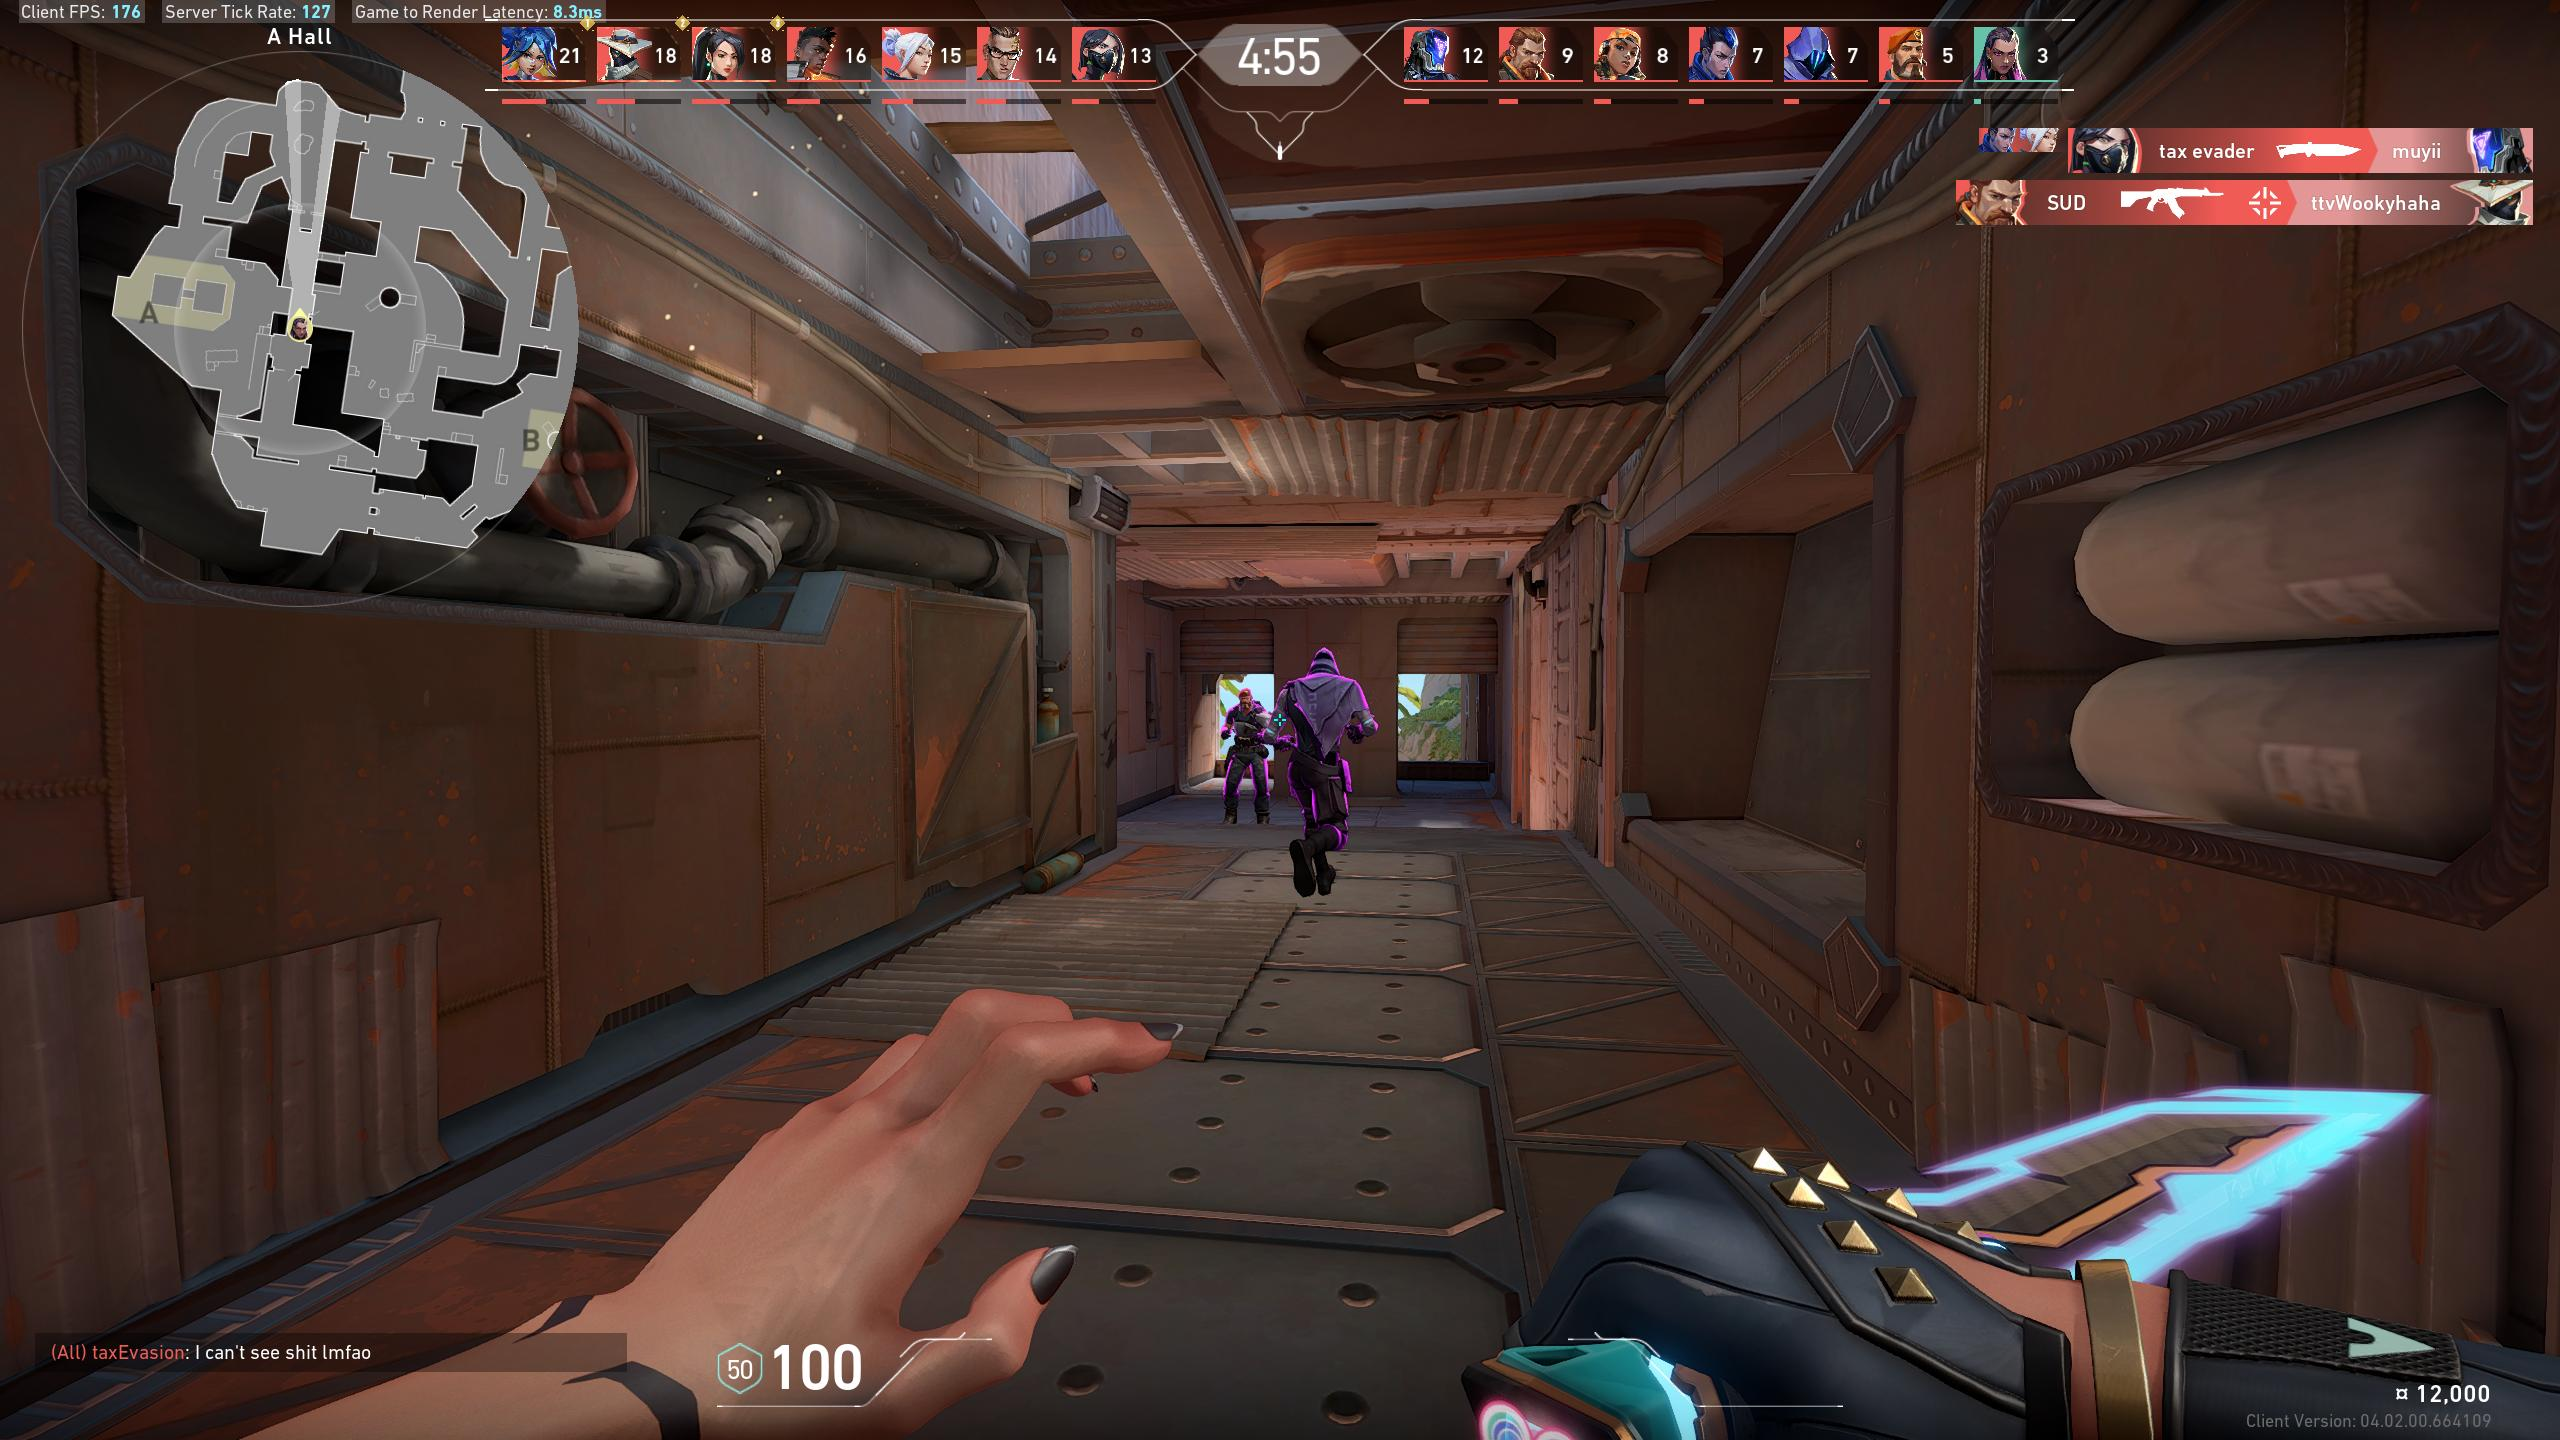enemyBody: (1305, 680, 1336, 740), (1234, 710, 1255, 745)
enemyHead: (1313, 658, 1335, 673), (1241, 695, 1252, 709)
